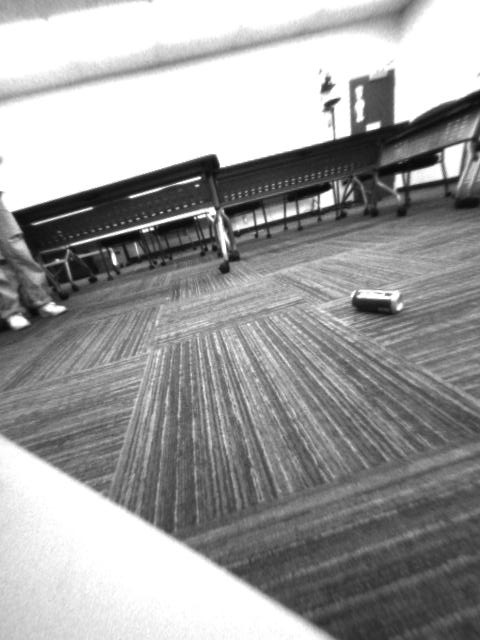can: (345, 283, 412, 320)
